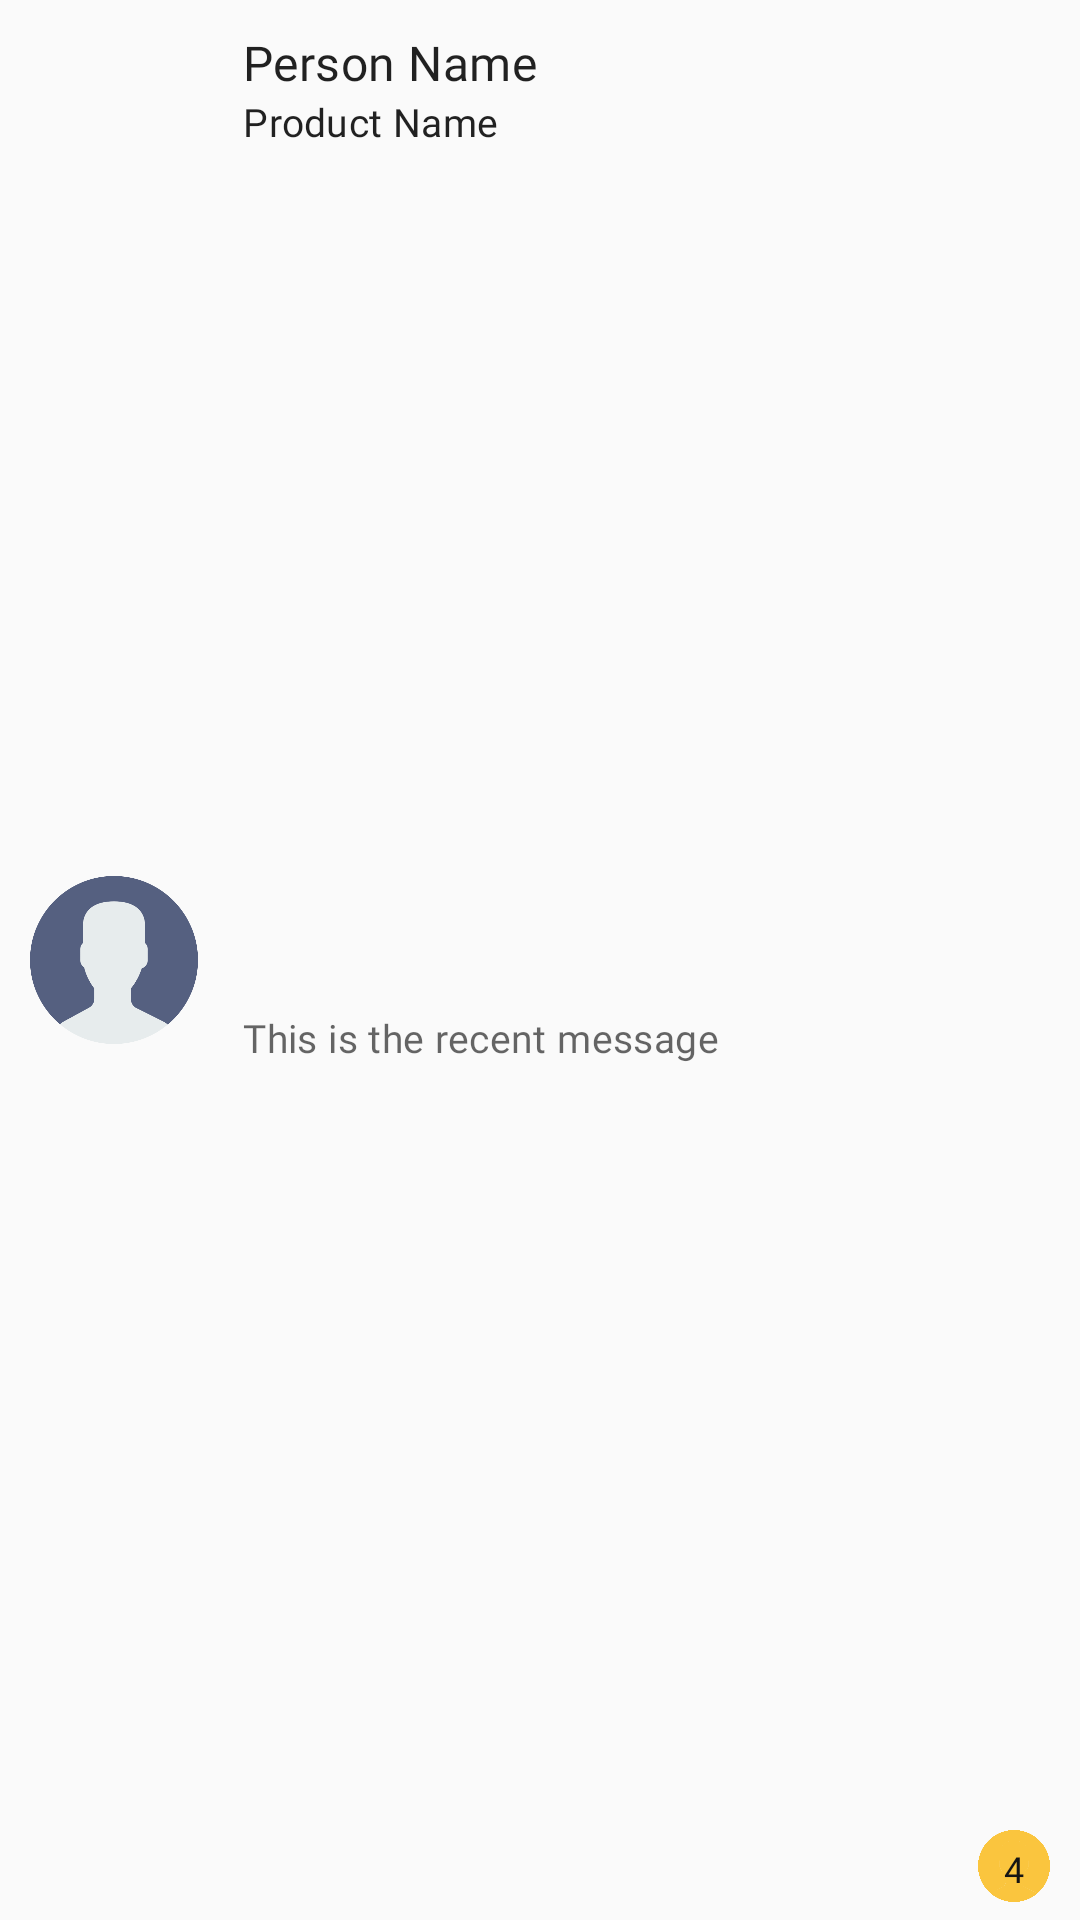

Screen size 1080*1920. Icon name, then its center in pixels as (x=x, y=y):
sampleuserimg: (x=114, y=950)
